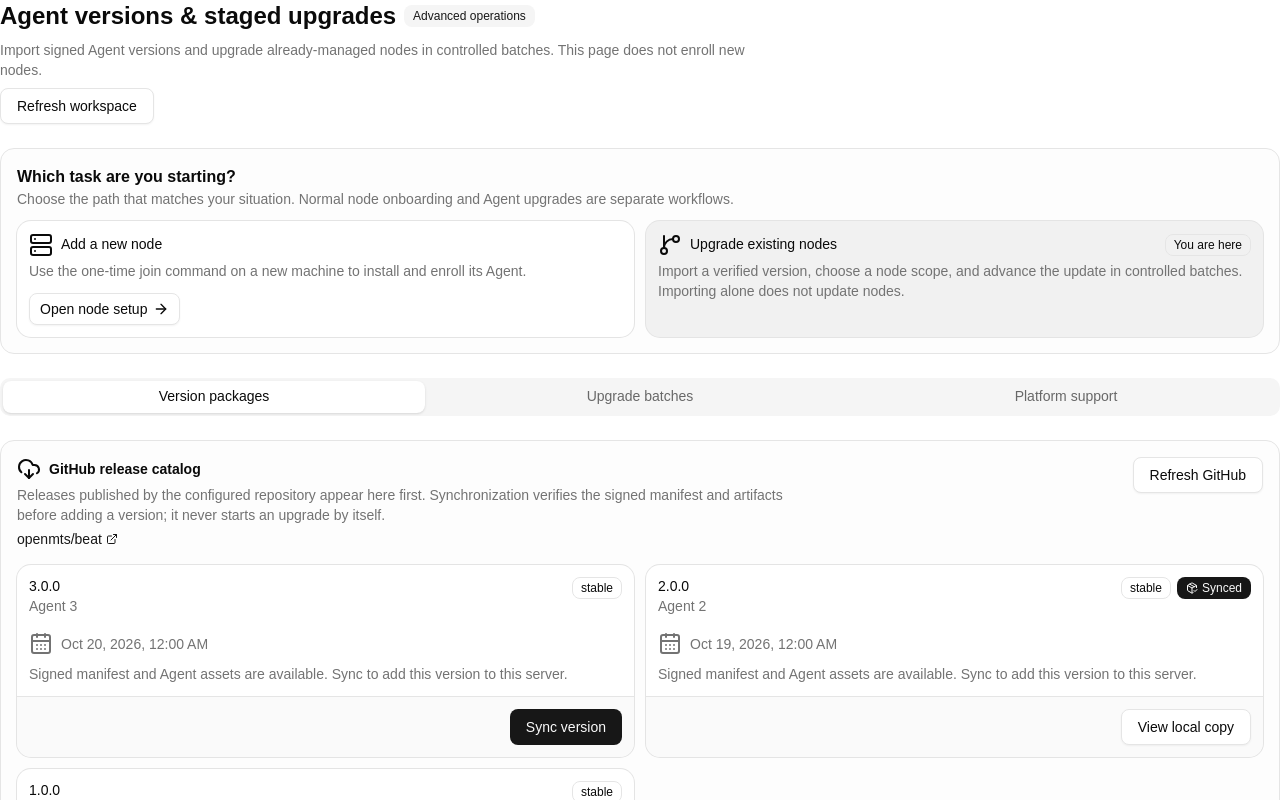
Test case: Agent release workspace › requires uncertainty acknowledgement before resume and exposes conflict errors without success
The width and height of the screenshot is (1280, 800).
Click the tab "Upgrade batches": (640, 397) [429,381,851,413]
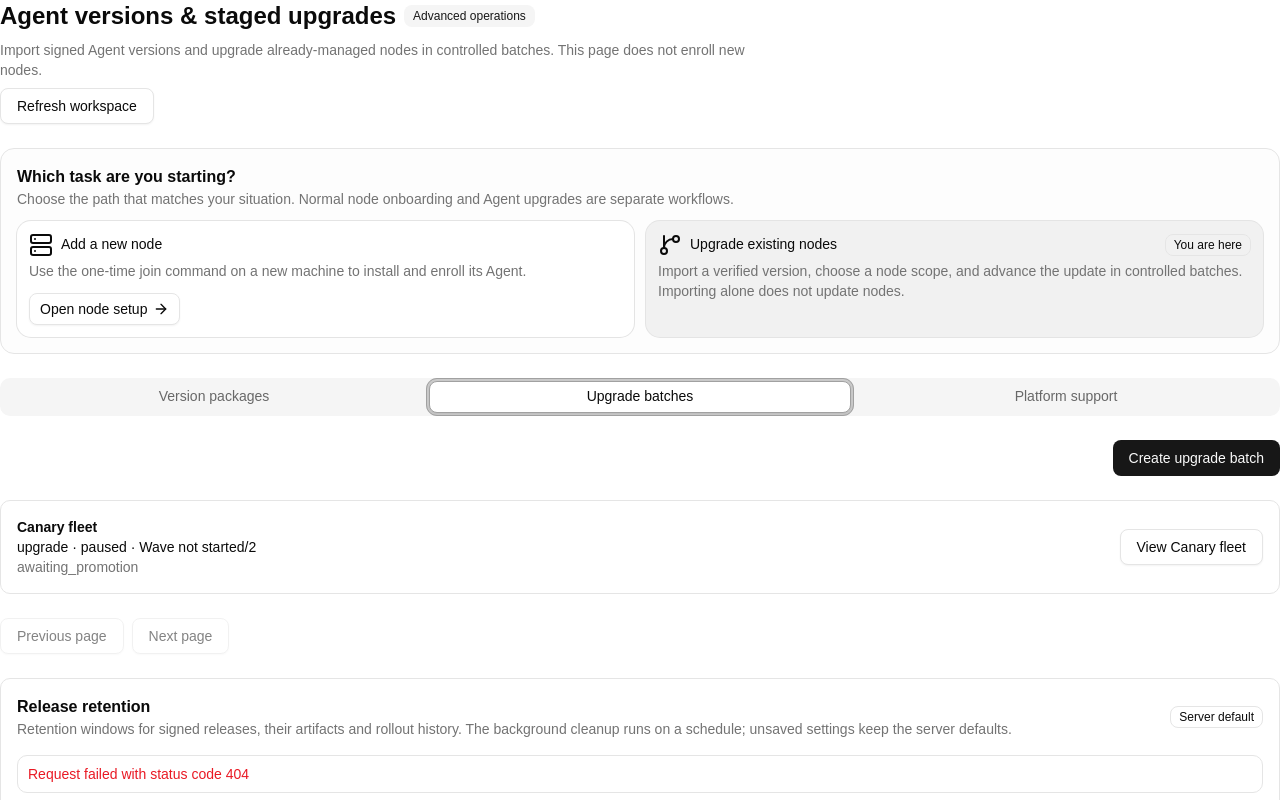
Click the button "View Canary fleet": (1191, 547) [1120,529,1263,565]
(page scrolled)
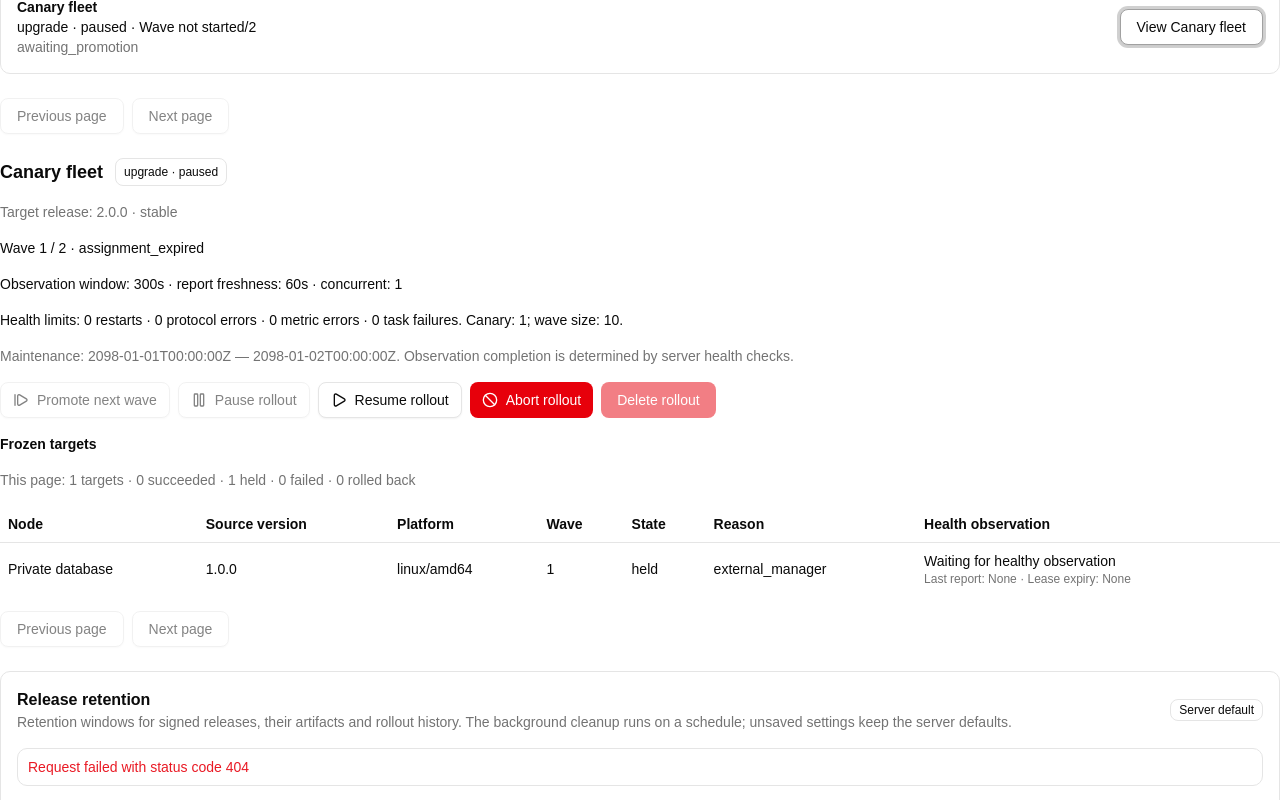
Click the button "Resume rollout": (390, 400) [318,382,462,418]
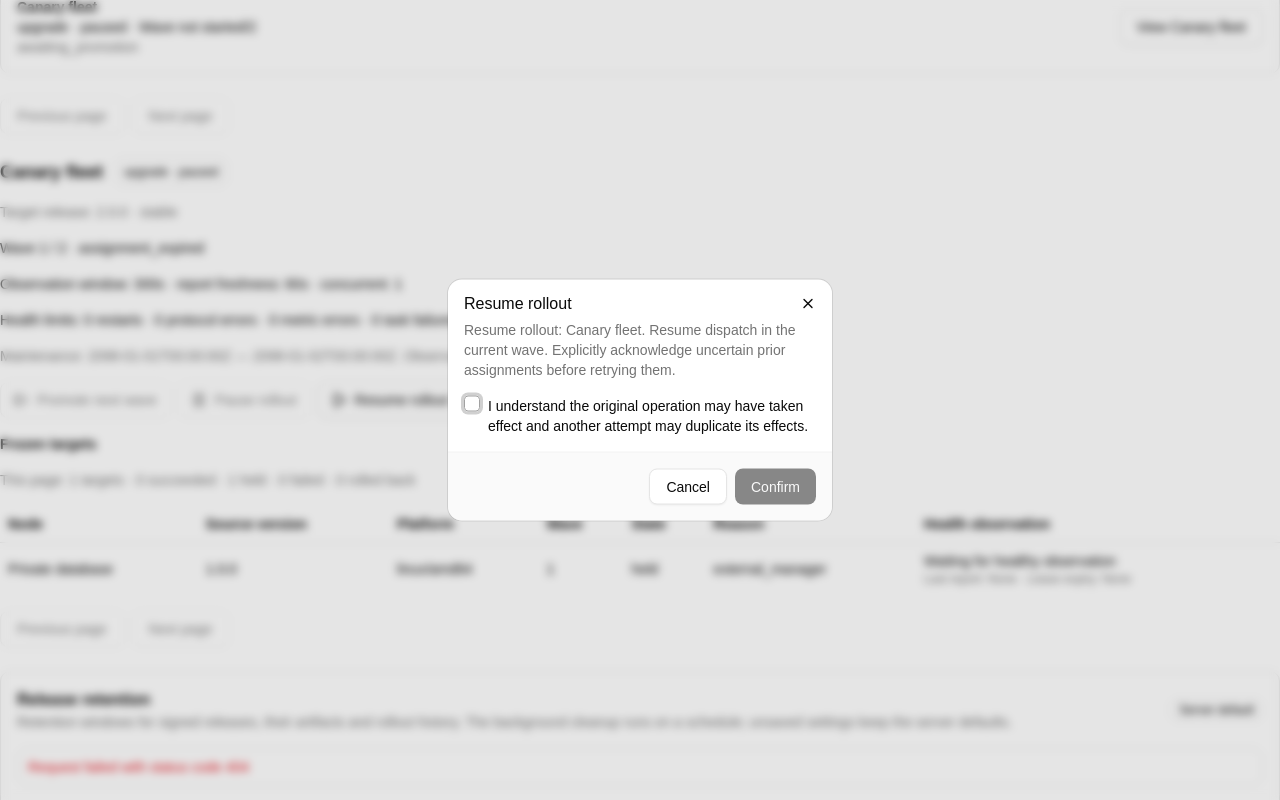
Expected: the button "Confirm" is disabled, [735,468,816,504]
Click the checkbox: (472, 404) [464,396,480,412]
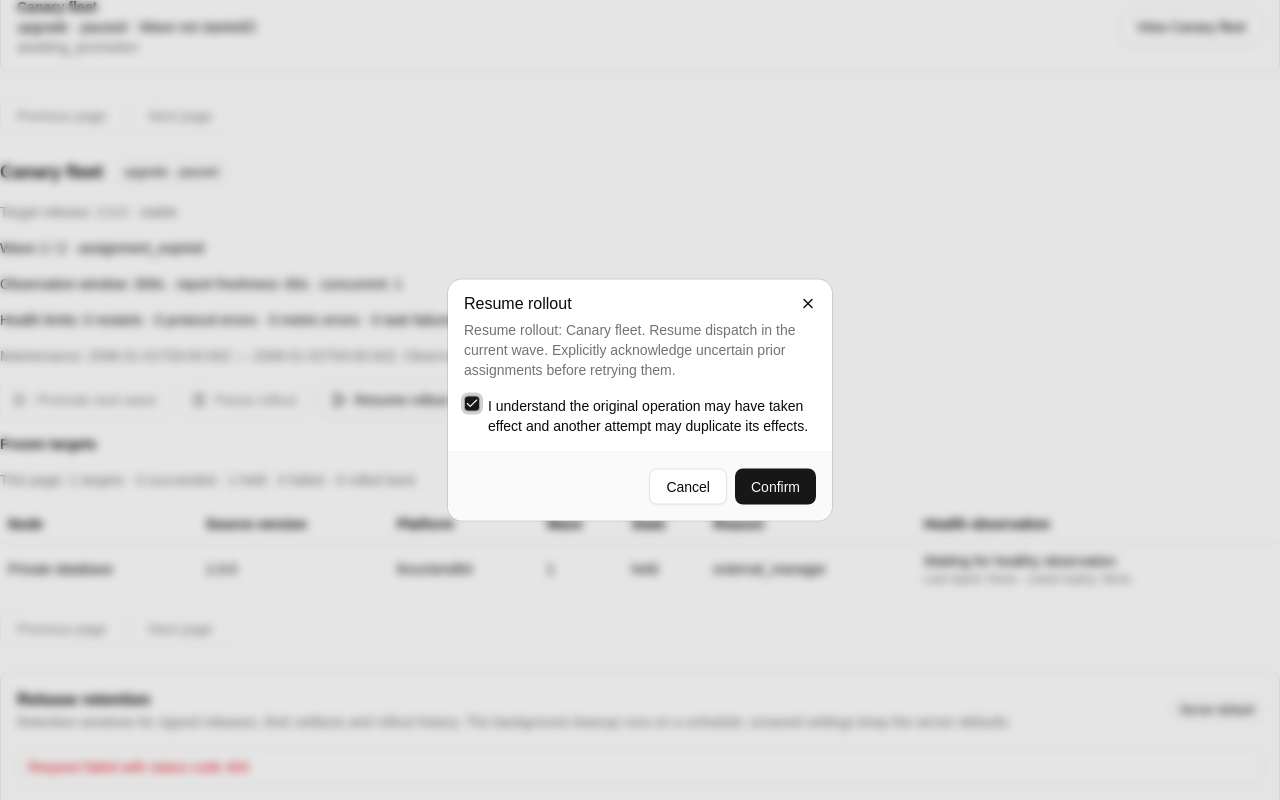
Click the button "Confirm": (776, 486) [735,468,816,504]
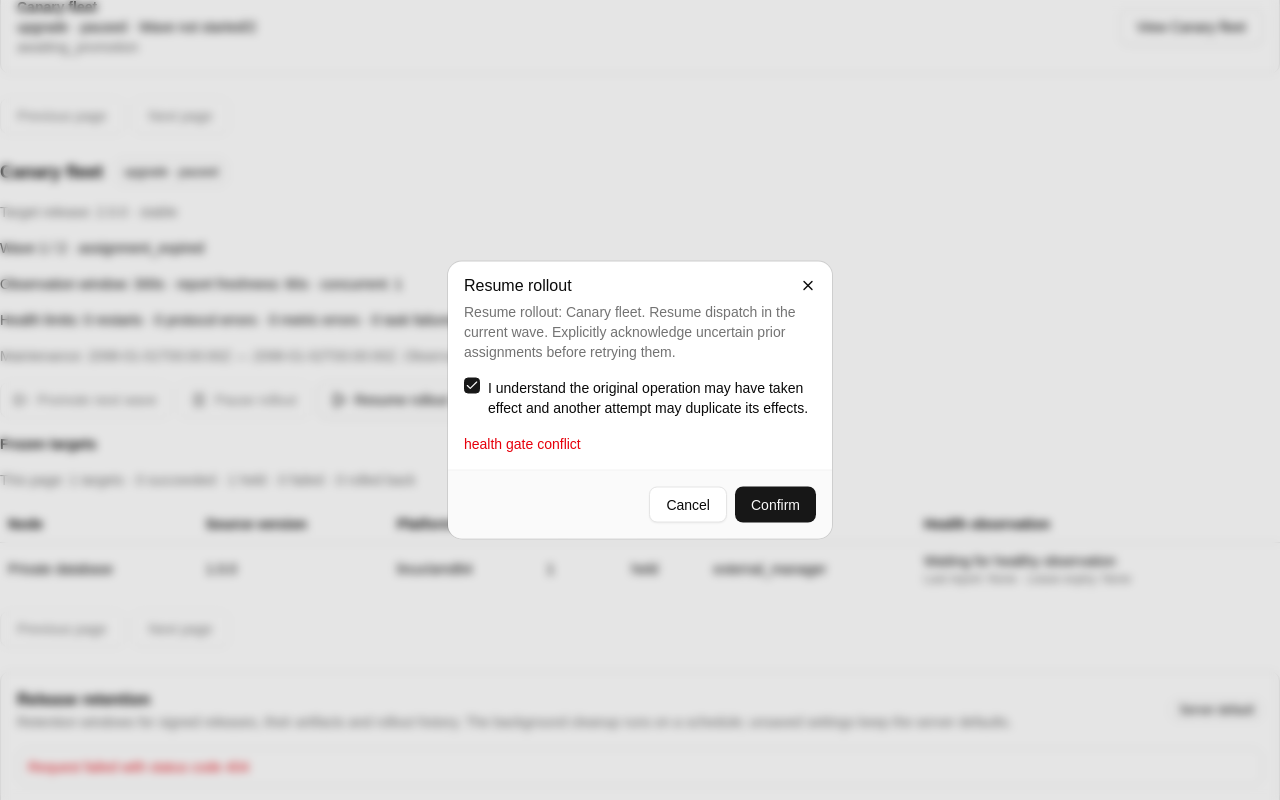
Expected: the message reads "health gate conflict", [464,436,581,452]
